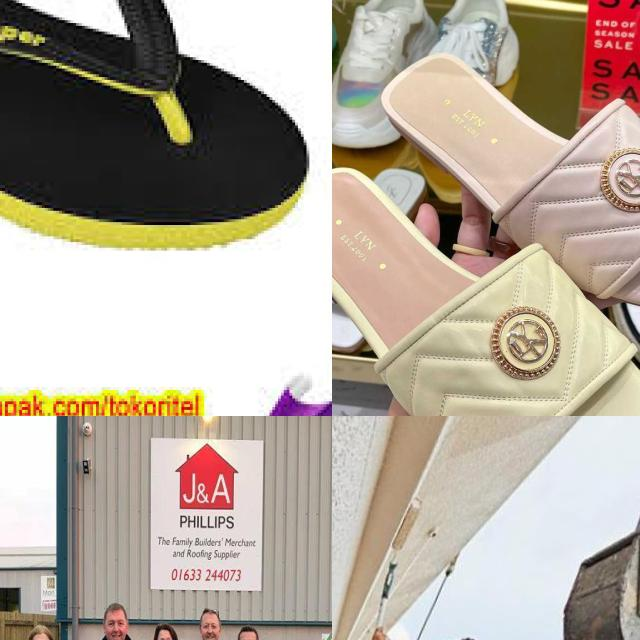No_Glasses: (106, 618, 125, 628), (201, 621, 218, 631), (157, 636, 172, 640), (240, 637, 255, 640)
Sandals: (0, 0, 332, 367), (332, 133, 640, 416), (347, 29, 640, 325)
face_nomask: (104, 613, 128, 640), (198, 615, 221, 640), (237, 628, 256, 640), (152, 633, 178, 640)
head_nohelmet: (26, 620, 54, 640), (104, 594, 128, 616), (237, 622, 262, 638), (158, 616, 174, 640), (202, 604, 219, 621)
